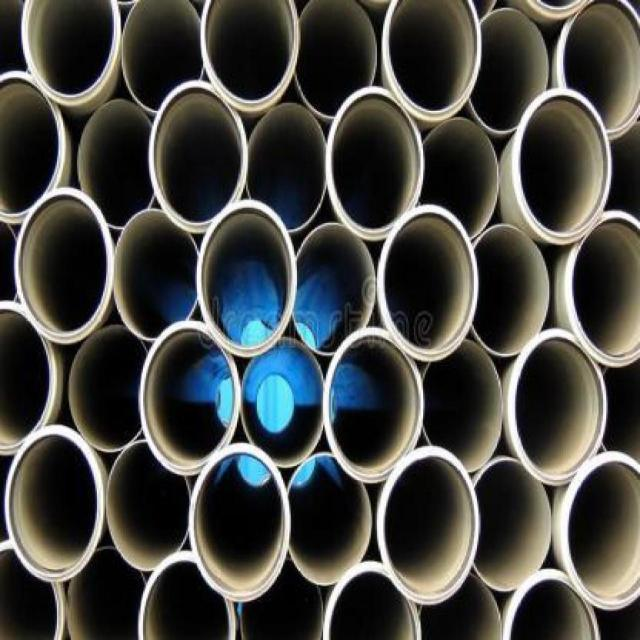pipe: (376, 446, 481, 606), (189, 444, 292, 603), (139, 320, 242, 478), (12, 185, 114, 344), (195, 199, 297, 358), (378, 203, 478, 362), (5, 425, 105, 584), (508, 329, 608, 487), (322, 326, 422, 482), (512, 90, 612, 244), (326, 86, 424, 240), (562, 451, 639, 611), (382, 0, 482, 123), (112, 207, 200, 340), (286, 453, 373, 586), (200, 2, 300, 114), (292, 222, 375, 356), (106, 440, 191, 570), (242, 337, 324, 470), (421, 341, 503, 474), (21, 0, 121, 108), (571, 212, 639, 368), (470, 224, 549, 358), (563, 0, 639, 139), (246, 102, 326, 233), (469, 5, 549, 135), (473, 459, 551, 591), (69, 326, 149, 454), (77, 99, 156, 228), (0, 70, 66, 223), (418, 117, 500, 239), (295, 0, 377, 120), (121, 0, 205, 111), (0, 300, 57, 458), (137, 550, 237, 640), (323, 562, 421, 639), (66, 547, 147, 640), (503, 569, 600, 639), (0, 536, 63, 640)
